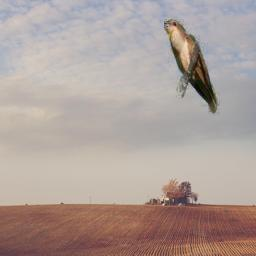Cuckoo: (164, 19, 220, 115)
